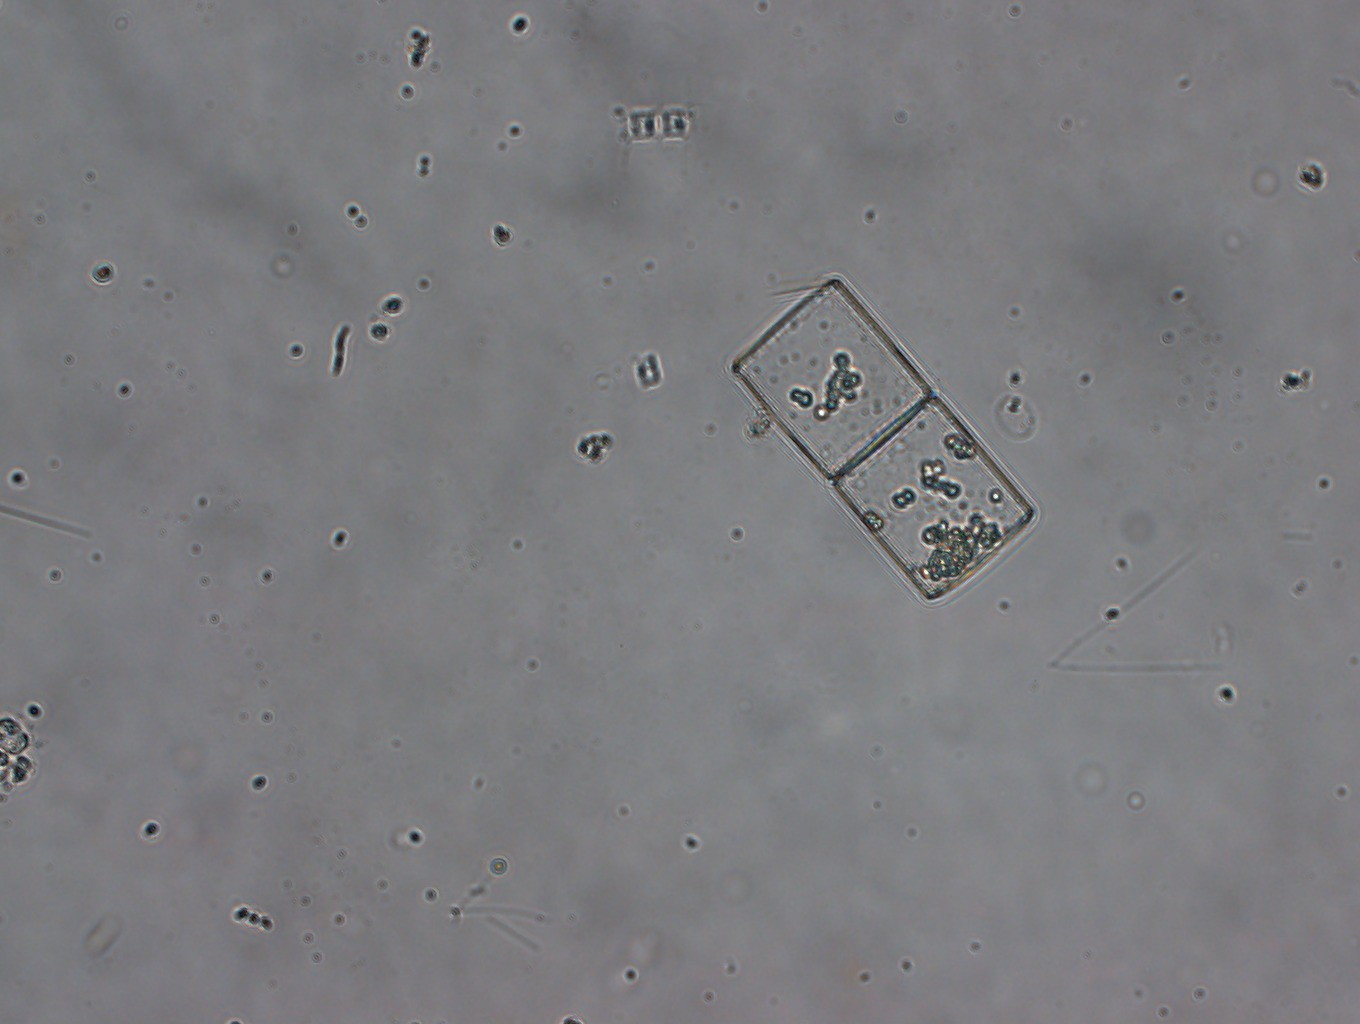guinardia flaccida: (727, 276, 1036, 601)
